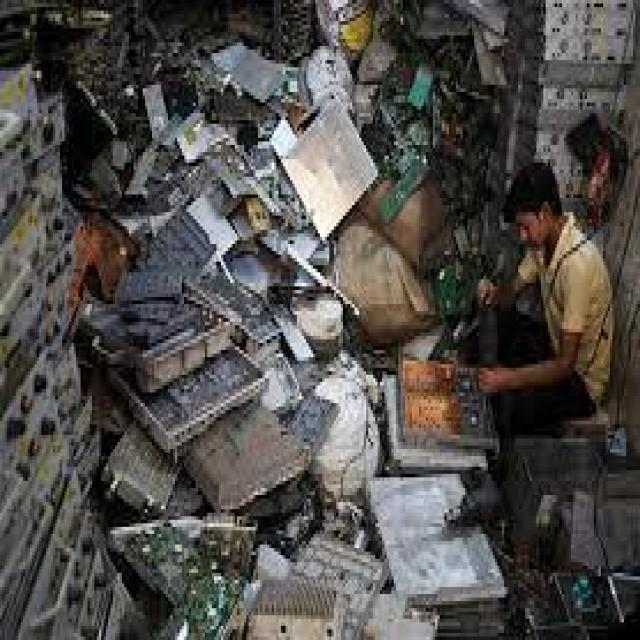Hazard: (0, 0, 635, 640)
